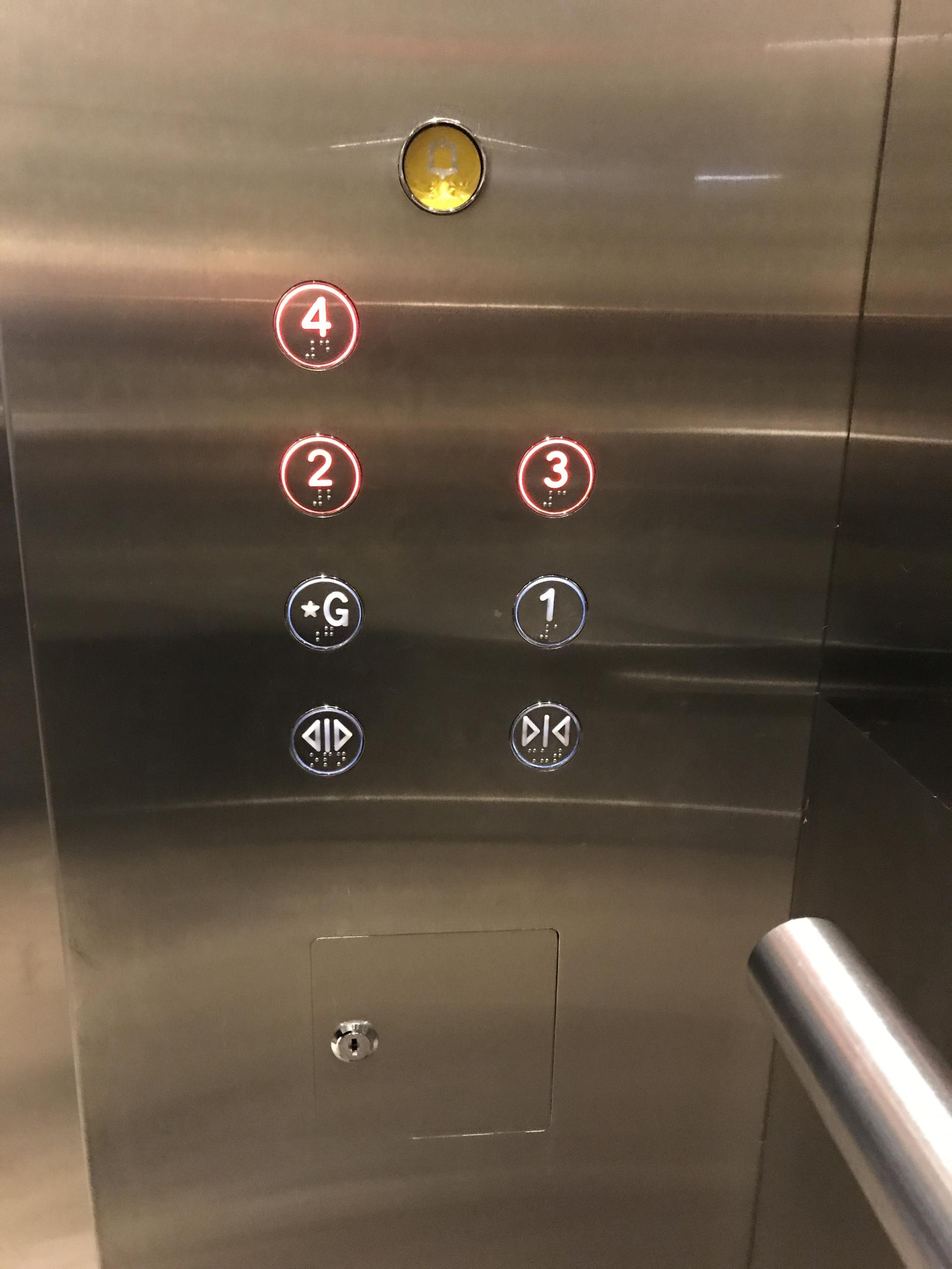1: (509, 572, 589, 651)
2: (276, 431, 363, 520)
3: (514, 434, 596, 519)
4: (270, 277, 362, 373)
alarm: (395, 115, 489, 216)
close: (506, 699, 583, 772)
open: (287, 702, 364, 778)
unknown: (283, 570, 362, 651)
